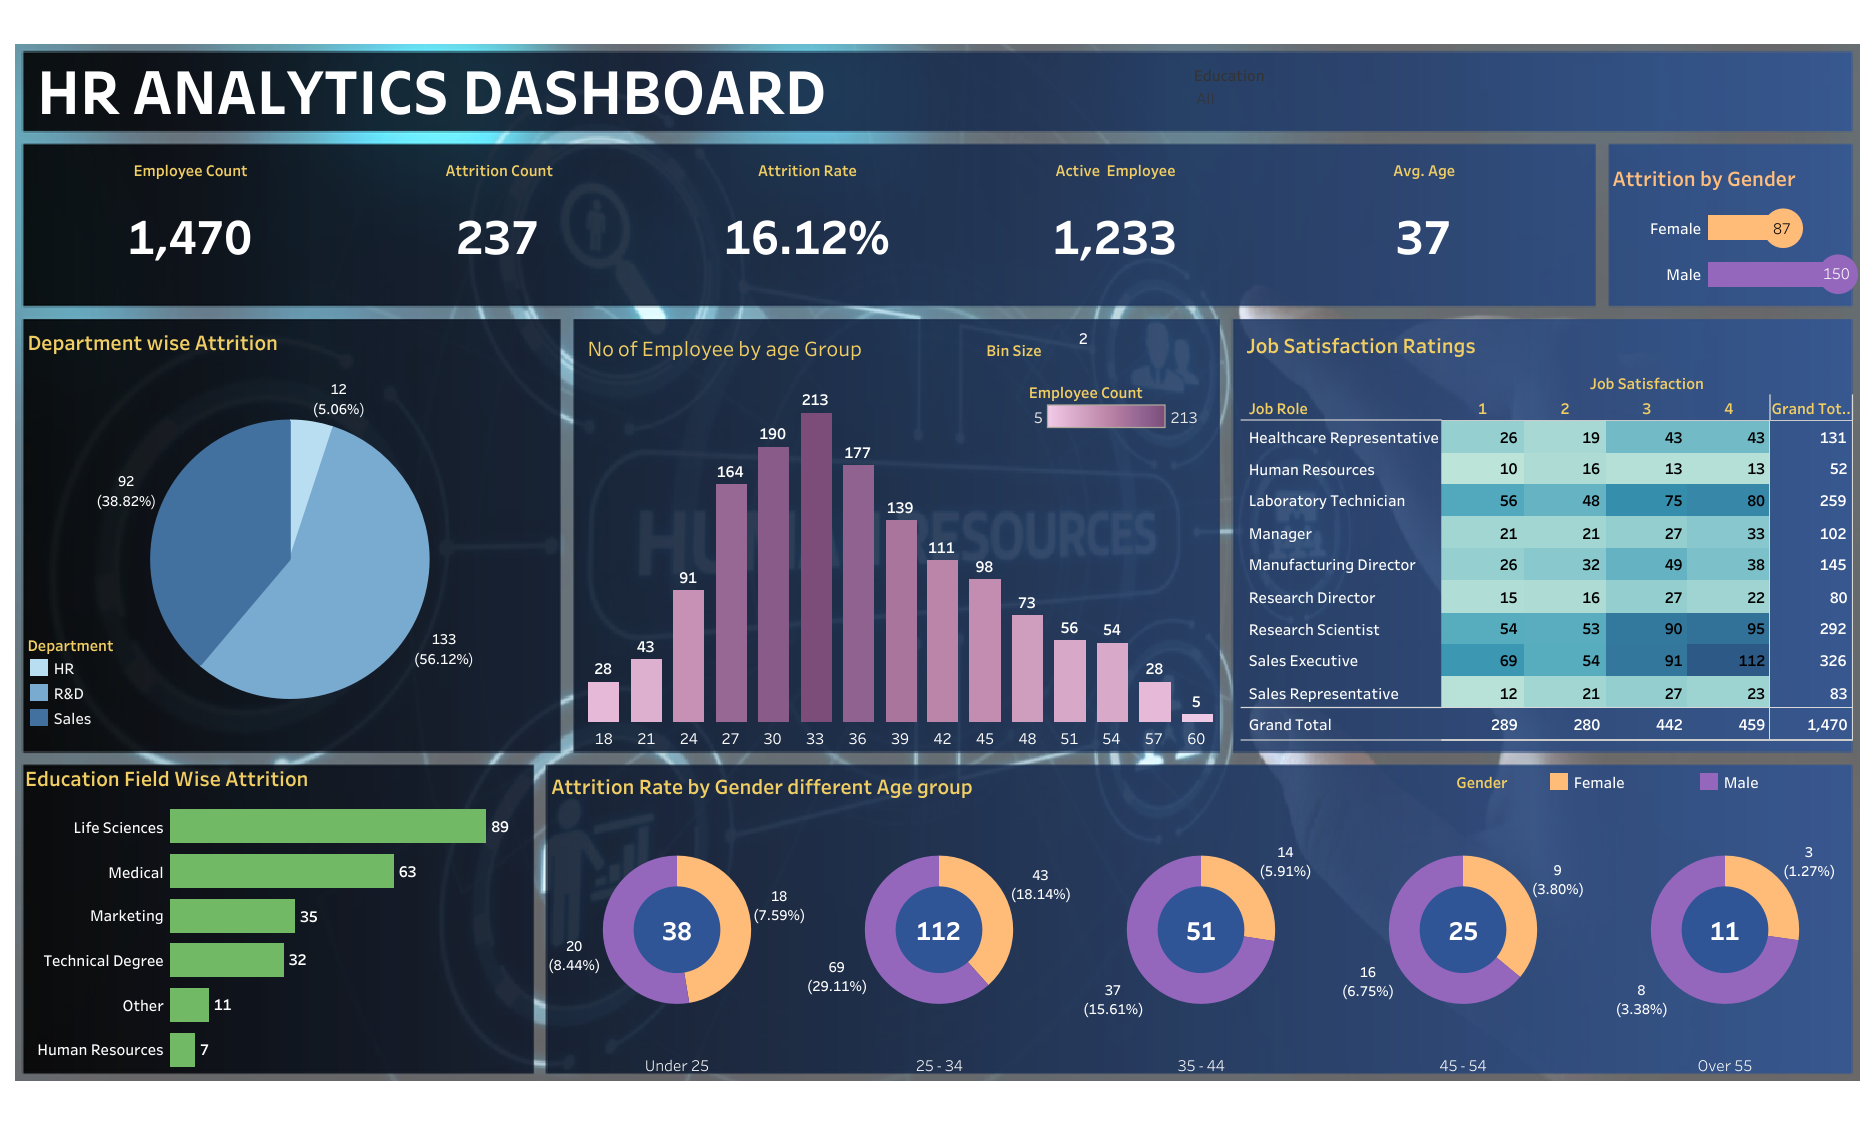

What the dashboard file says about the page in this screenshot:
{"tool":"tableau","page":{"name":"HR ANALYTICS DASHBOARD","canvas":[1500,900],"ordinal":0},"visuals":[{"type":"image","param":"Image/HR background.pptx.png","box":[8,8,1484,884]},{"type":"text","box":[27,44,1013,54]},{"type":"filter","title":"Department wise Attrition","param":"[federated.035jpty07wgegd12cczo91f0u1xc].[none:Education:nk]","box":[955,50,249,50]},{"type":"worksheet","title":"Attrition by Gender","mark":"Automatic","rows":["Gender"],"cols":["Calculation_1569223012824330240","Calculation_1569223012824330240"],"box":[1286,125,205,112]},{"type":"worksheet","title":"KPI","mark":"Automatic","box":[29,126,1234,104]},{"type":"worksheet","title":"Department wise Attrition","mark":"Pie","box":[18,256,427,344]},{"type":"worksheet","title":"Job Satisfaction Ratings","mark":"Square","rows":["Job Role"],"cols":["Job Satisfaction"],"box":[993,258,490,335]},{"type":"worksheet","title":"No of Employee by age Group","mark":"Automatic","rows":["Employee Count"],"cols":["Age (bin)"],"box":[466,261,508,338]},{"type":"parameter","param":"[Parameters].[Parameter 1]","box":[789,261,177,38]},{"type":"legend","title":"No of Employee by age Group","param":"[federated.035jpty07wgegd12cczo91f0u1xc].[sum:Employee Count:qk]","box":[823,300,140,55]},{"type":"legend","title":"Department wise Attrition","param":"[federated.035jpty07wgegd12cczo91f0u1xc].[none:Department:nk]","box":[21,505,92,85]},{"type":"worksheet","title":"Education Field Wise Attrition","mark":"Automatic","rows":["Education Field"],"cols":["Calculation_1569223012824330240"],"box":[16,605,410,252]},{"type":"worksheet","title":"Attrition Rate by Gender different Age group","mark":"Pie","rows":["Calculation_1199927843735244801","Calculation_1199927843735244801"],"cols":["CF_age band"],"box":[437,611,1048,250]},{"type":"legend","title":"Attrition Rate by Gender different Age group","param":"[federated.035jpty07wgegd12cczo91f0u1xc].[none:Gender:nk]","box":[1165,615,320,30]}]}

Visuals, with their boxes in screenshot pixels (x1, y1, x2, y2), scaled from the page's 1500x900 canvas onto the 1874x1124 screenshot:
image: bbox=(10, 10, 1864, 1114)
text: bbox=(34, 55, 1299, 122)
"Department wise Attrition" filter: bbox=(1193, 62, 1504, 125)
"Attrition by Gender" worksheet: bbox=(1607, 156, 1863, 296)
"KPI" worksheet: bbox=(36, 157, 1578, 287)
"Department wise Attrition" worksheet (Pie marks): bbox=(22, 320, 556, 749)
"Job Satisfaction Ratings" worksheet (Square marks): bbox=(1241, 322, 1853, 741)
"No of Employee by age Group" worksheet: bbox=(582, 326, 1217, 748)
parameter: bbox=(986, 326, 1207, 373)
"No of Employee by age Group" legend: bbox=(1028, 375, 1203, 443)
"Department wise Attrition" legend: bbox=(26, 631, 141, 737)
"Education Field Wise Attrition" worksheet: bbox=(20, 756, 532, 1070)
"Attrition Rate by Gender different Age group" worksheet (Pie marks): bbox=(546, 763, 1855, 1075)
"Attrition Rate by Gender different Age group" legend: bbox=(1455, 768, 1855, 806)
